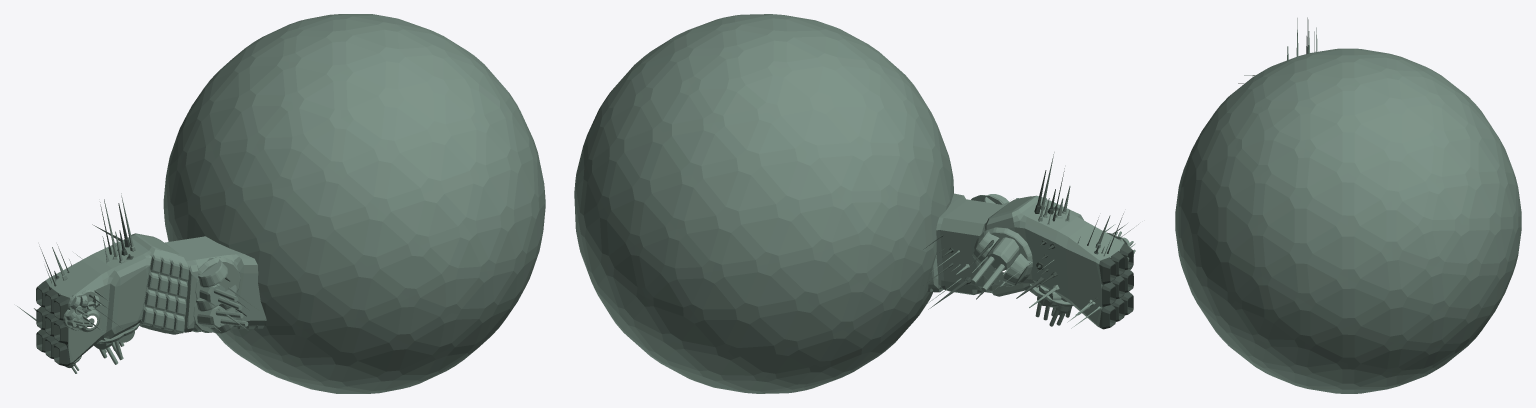
The model's file is bvais2.fbx.
3 views of the same model, side by side, from view 1: azimuth 30°, elevation 25°; view 2: azimuth 150°, elevation 25°; view 3: azimuth 270°, elevation 25° (orthographic). The views are drawn at different scales.
Visible parts, largest first — view 1: Spaceship; view 2: Spaceship; view 3: Spaceship.
Boxes of the visible parts, x1,y1,x2,y2 form: Spaceship: [17, 14, 545, 393]; Spaceship: [574, 14, 1138, 393]; Spaceship: [1175, 17, 1521, 393].
Bounding box in the file's own units: 1072 × 701 × 703.
